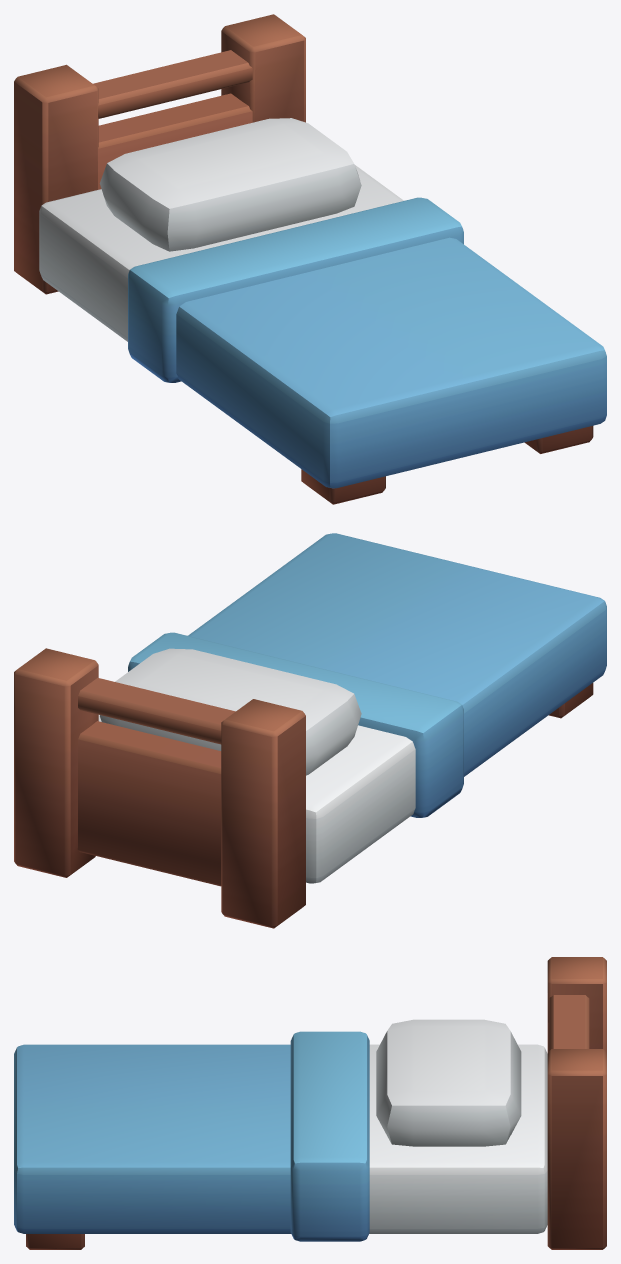
Rendered from bed.glb.
3 renders of one model, top to bottom at view 1: azimuth 30°, elevation 25°; view 2: azimuth 150°, elevation 25°; view 3: azimuth 270°, elevation 25°, orthographic. The views are drawn at different scales.
Visible parts, largest first — view 1: bed_single_A; view 2: bed_single_A; view 3: bed_single_A.
Boxes of the visible parts, x1,y1,x2,y2 form: bed_single_A: (14,14,606,504); bed_single_A: (14,533,606,928); bed_single_A: (14,957,606,1249).
Bounding box in the file's own units: 1.6 × 0.9999 × 3.
1 material, 1 textured.
